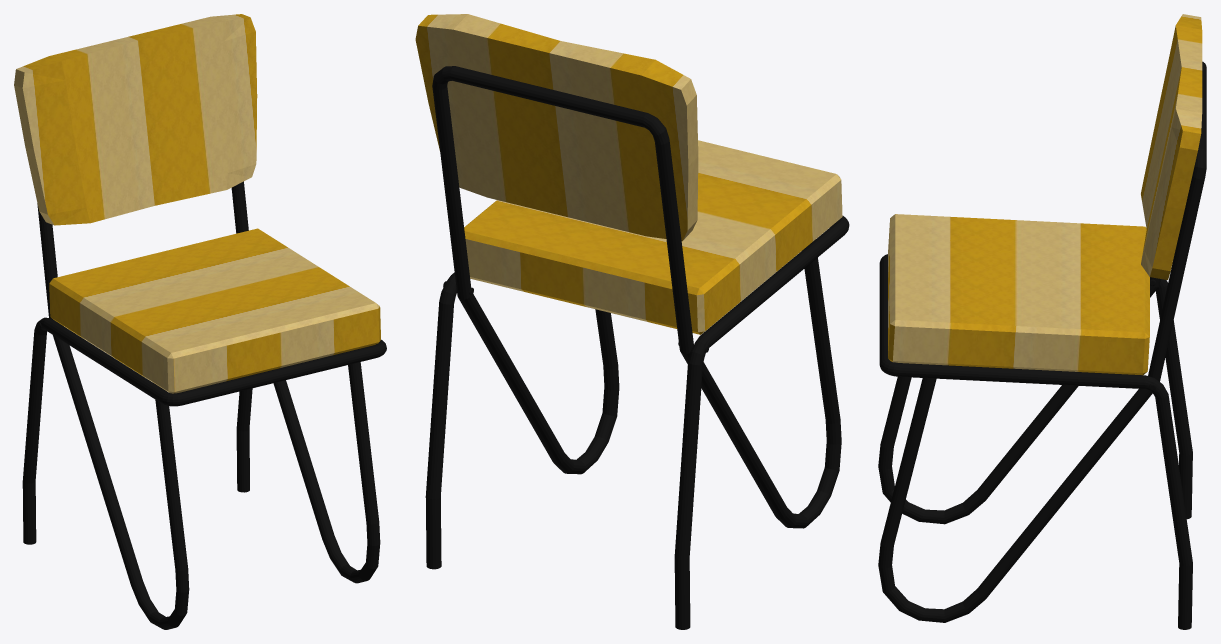
Rendered from chair3.obj.
The picture shows the model from 3 angles, left to right: view 1: azimuth 30°, elevation 25°; view 2: azimuth 150°, elevation 25°; view 3: azimuth 270°, elevation 25°; orthographic projection. The views are drawn at different scales.
Visible parts, largest first — view 1: cadiregro2_silla_co_t, cadiregroe_silla_co_t, cadiregro2_metall; view 2: cadiregro2_silla_co_t, cadiregroe_silla_co_t, cadiregro2_metall; view 3: cadiregroe_silla_co_t, cadiregro2_metall, cadiregro2_silla_co_t.
Boxes of the visible parts, x1,y1,x2,y2 form: cadiregro2_silla_co_t: (14,14,257,225); cadiregroe_silla_co_t: (49,228,380,393); cadiregro2_metall: (22,181,386,629); cadiregro2_silla_co_t: (415,14,698,241); cadiregroe_silla_co_t: (464,140,842,334); cadiregro2_metall: (425,66,849,629); cadiregroe_silla_co_t: (888,214,1149,375); cadiregro2_metall: (878,61,1206,629); cadiregro2_silla_co_t: (1141,14,1202,279).
Size of the model in its own units: 0.4404 by 0.8637 by 0.5075.
